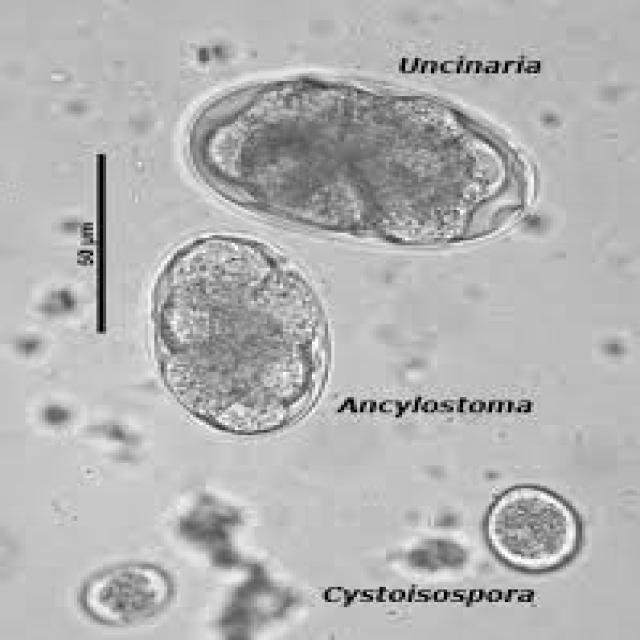Ancylostoma Spp: (177, 61, 543, 245), (140, 229, 342, 449)
